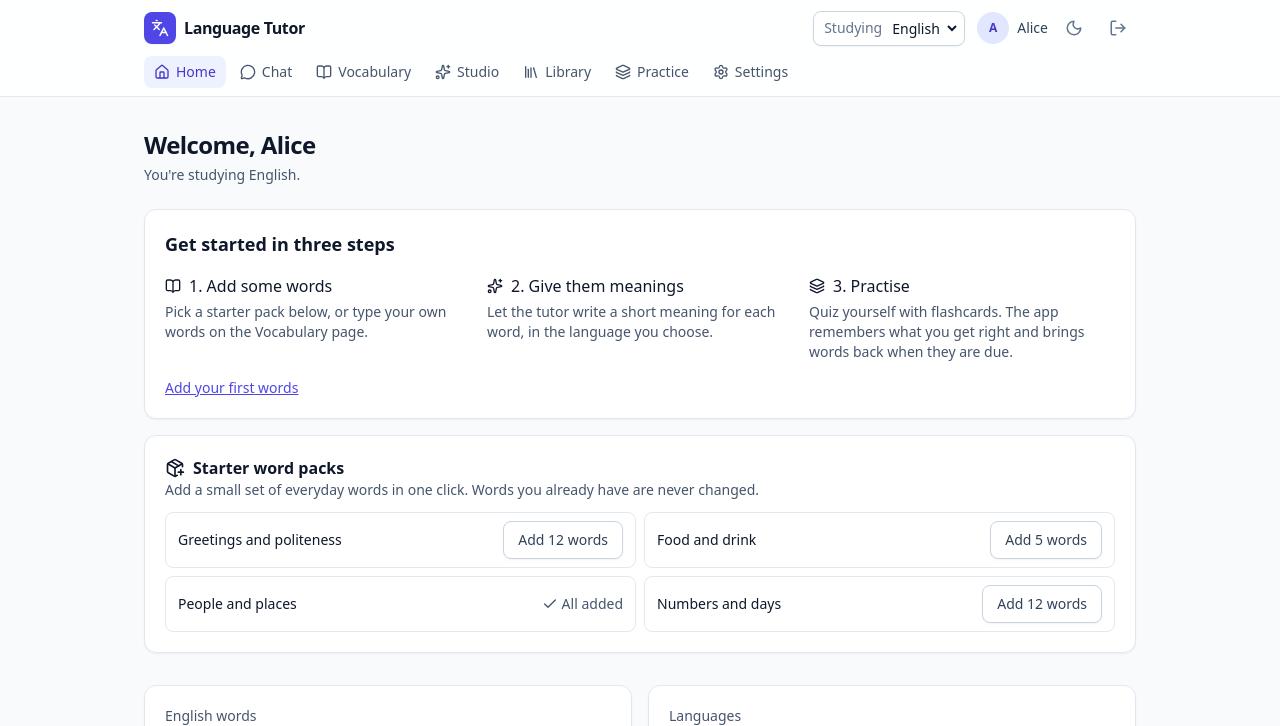
Scenario: starter packs › shows the server's reason when adding fails
Click the button with aria-label "Greetings and politeness: Add 12 words" at (563, 540), box top-left (503, 521), bottom-right (623, 559)
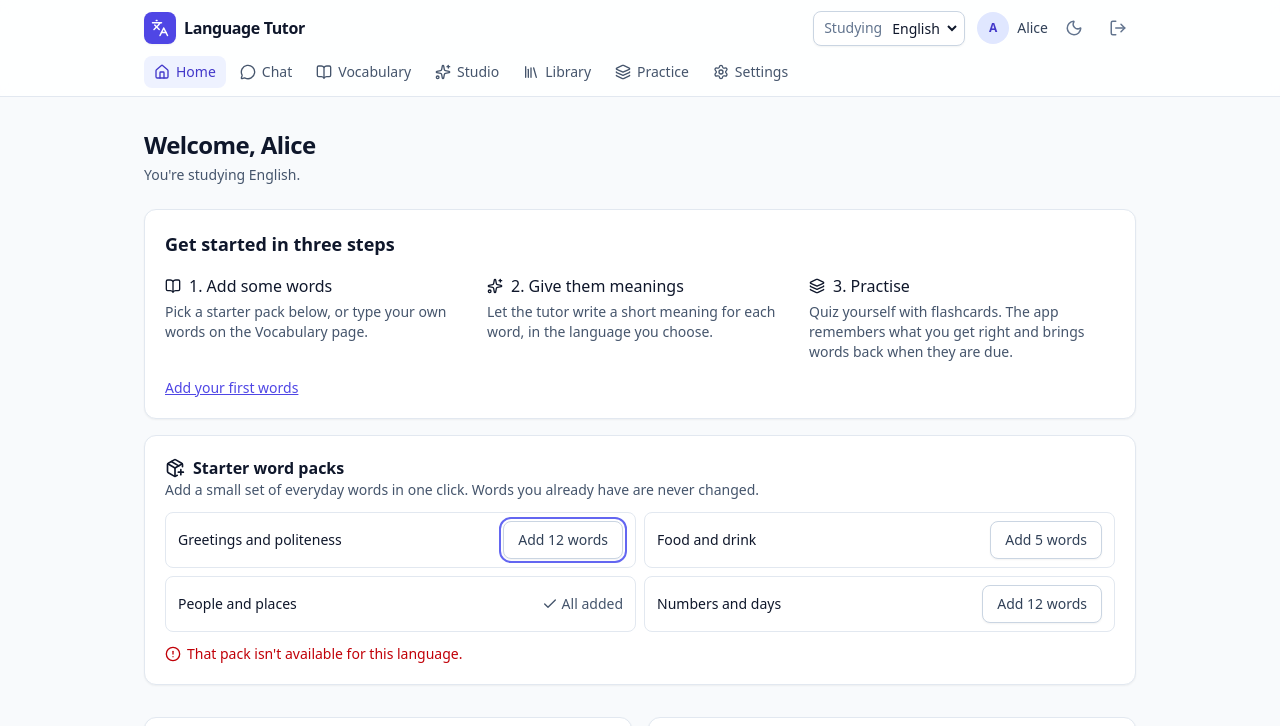
Check: the message shows "That pack isn't available", box top-left (187, 644), bottom-right (462, 663)
